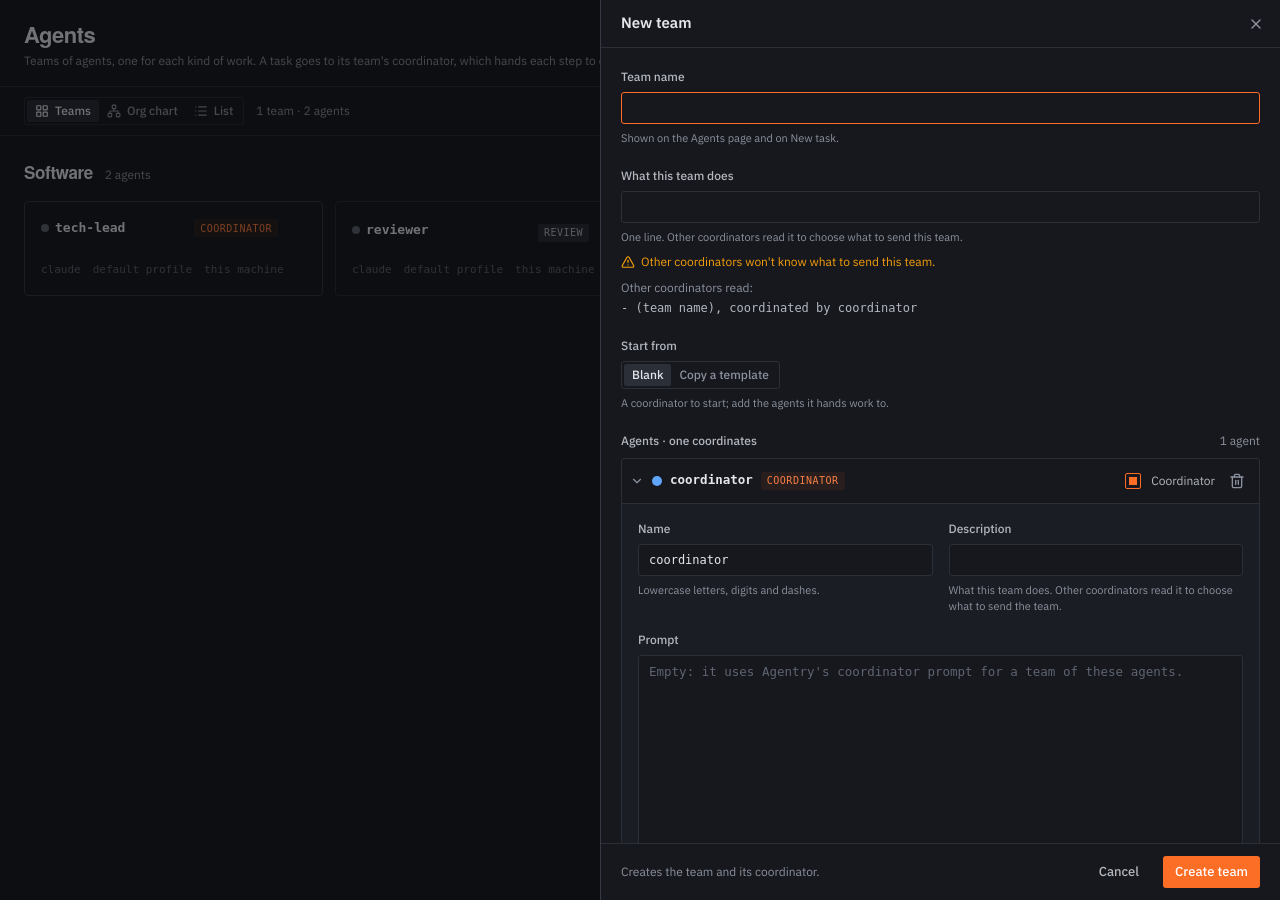
Test: New team: Blank › the page behind is inert while the panel is open, and Close closes it
This screenshot has width=1280, height=900.
Click the button named "Close": (1256, 24) [1240,8,1272,40]
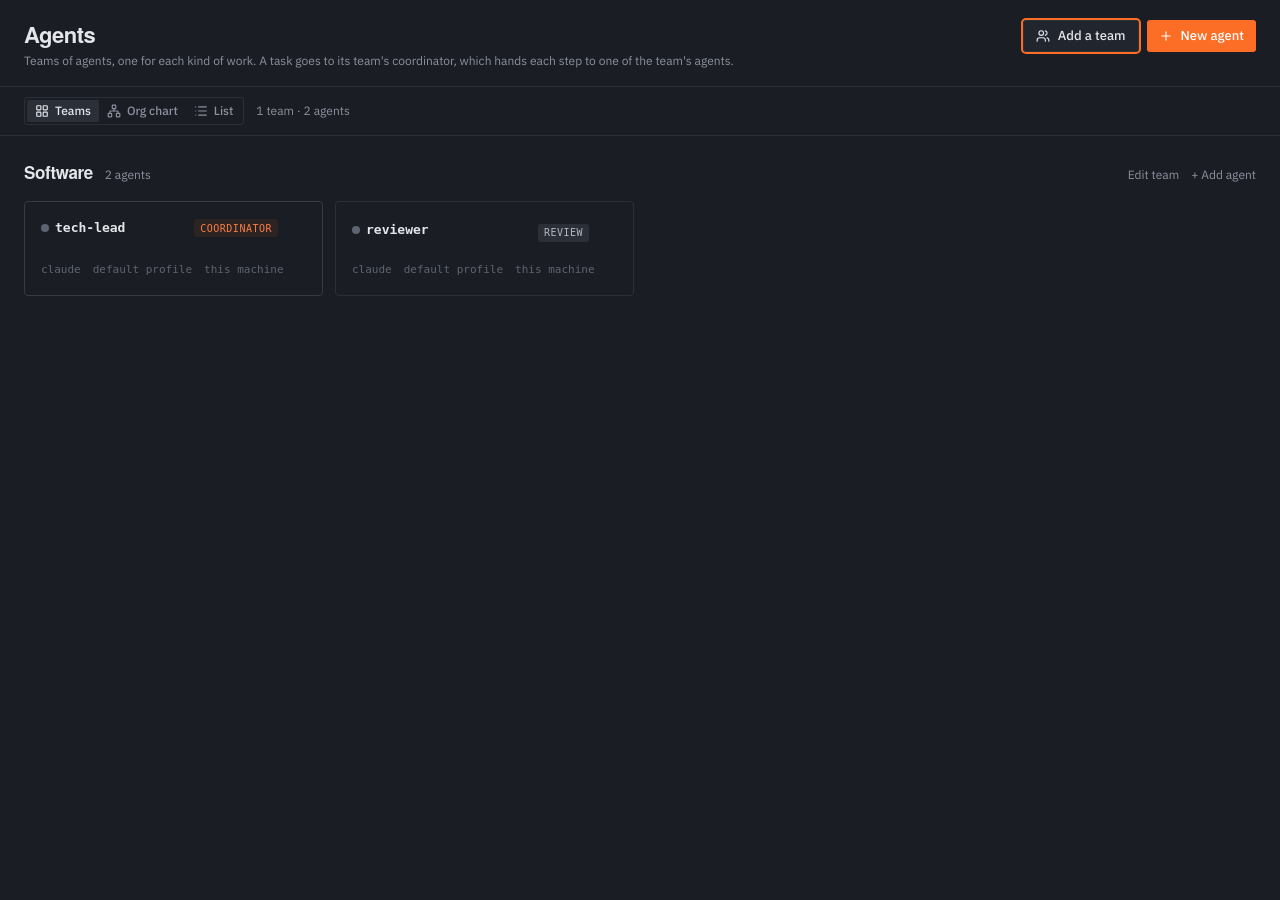
Result: the heading "New team" is gone
